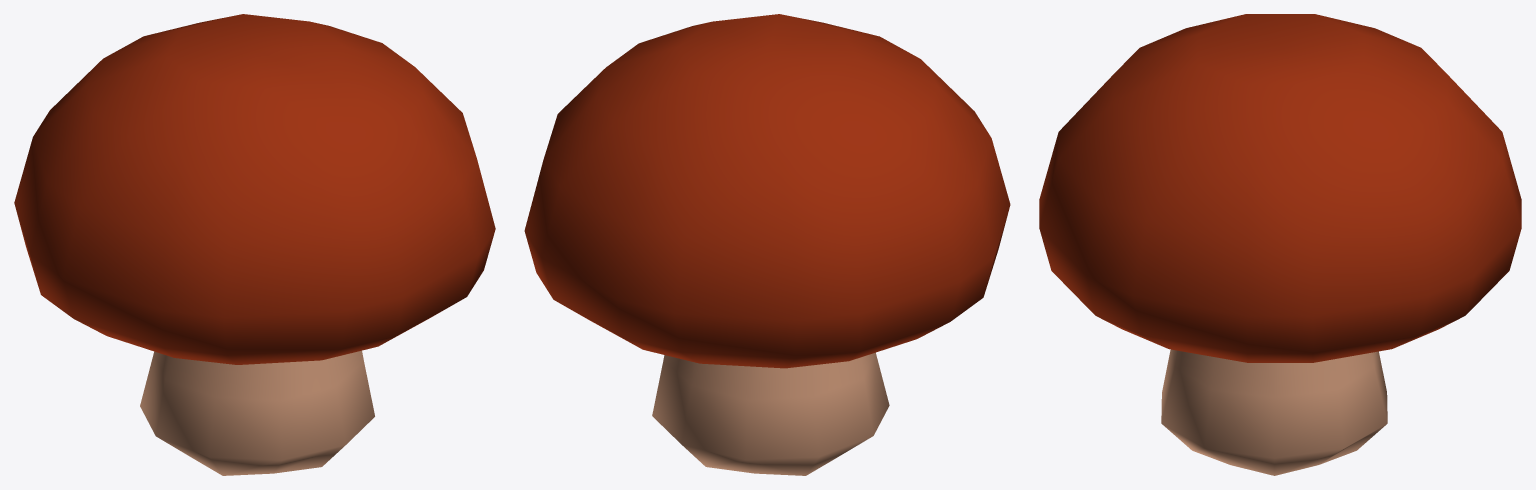
Rendered from mdl_champignon.FBX.
3 renders of one model, left to right at view 1: azimuth 30°, elevation 25°; view 2: azimuth 150°, elevation 25°; view 3: azimuth 270°, elevation 25°, orthographic.
Visible parts, largest first — view 1: mdl_champignon; view 2: mdl_champignon; view 3: mdl_champignon.
Boxes of the visible parts, x1=… form: mdl_champignon: x1=14, y1=14, x2=495, y2=475; mdl_champignon: x1=524, y1=14, x2=1010, y2=475; mdl_champignon: x1=1039, y1=14, x2=1521, y2=475.
Bounding box in the file's own units: 33.72 × 30.13 × 33.72.
1 material, 1 textured.
